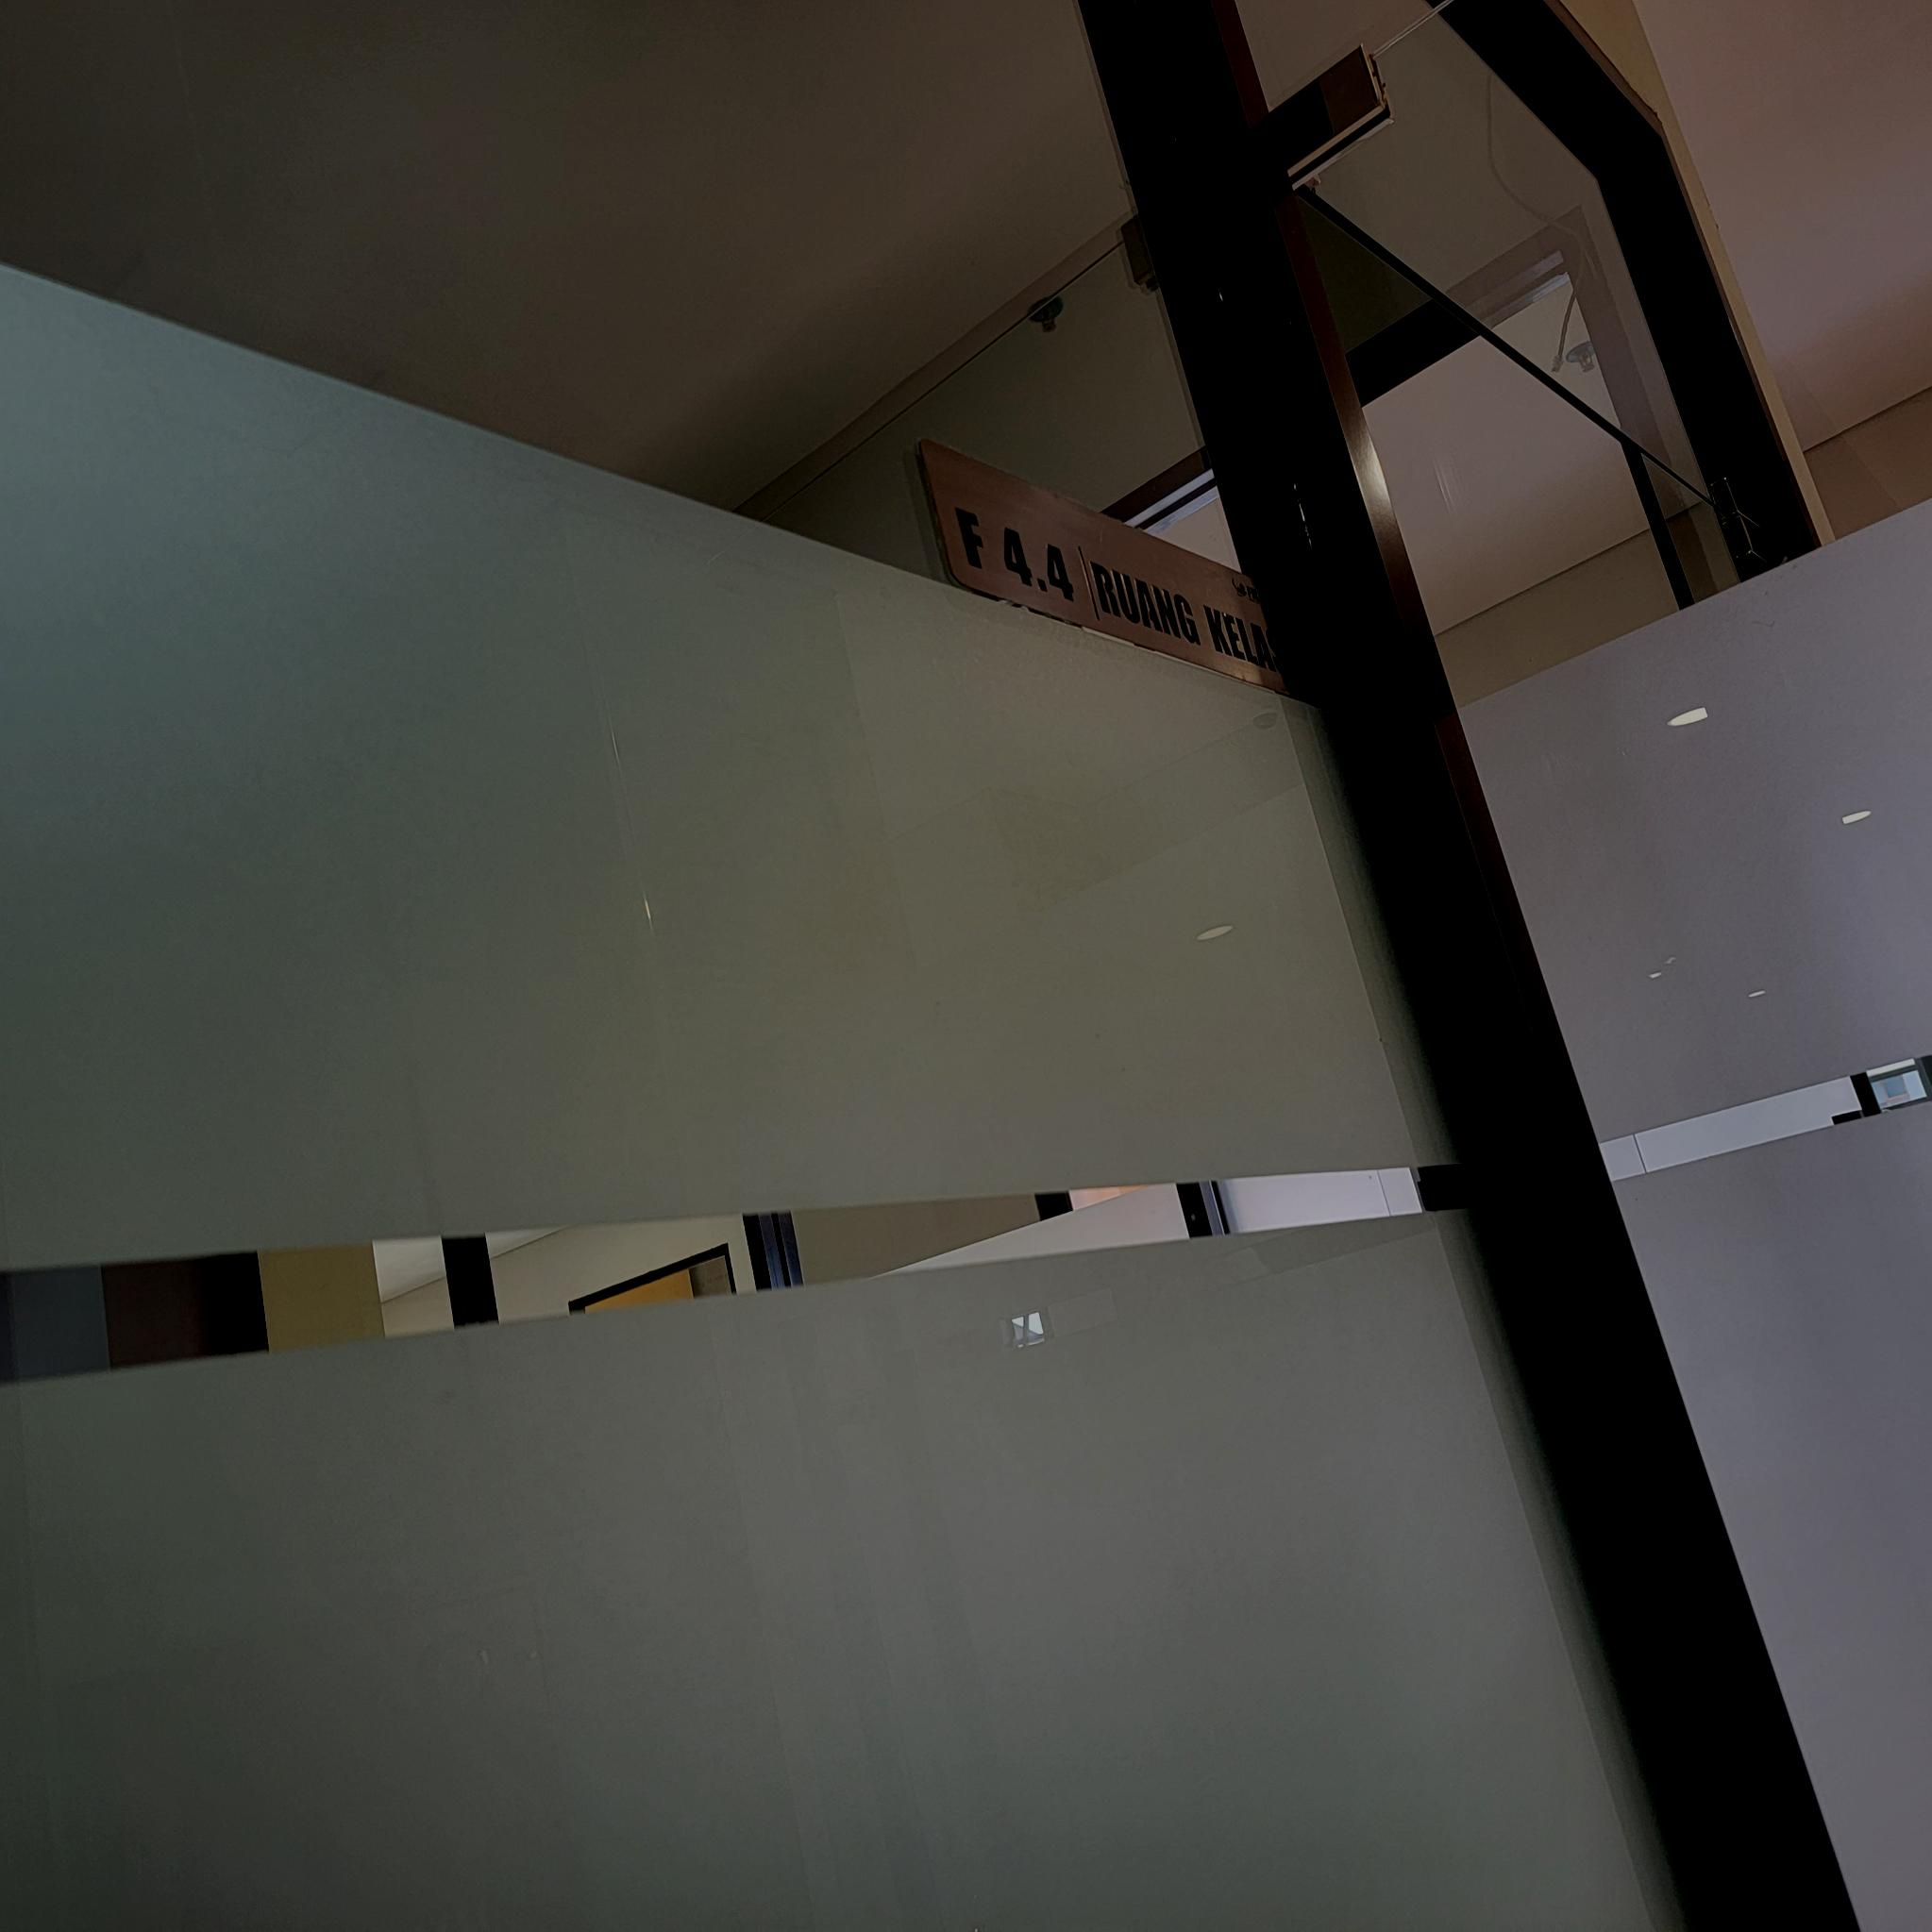plate: (918, 439, 1313, 704)
